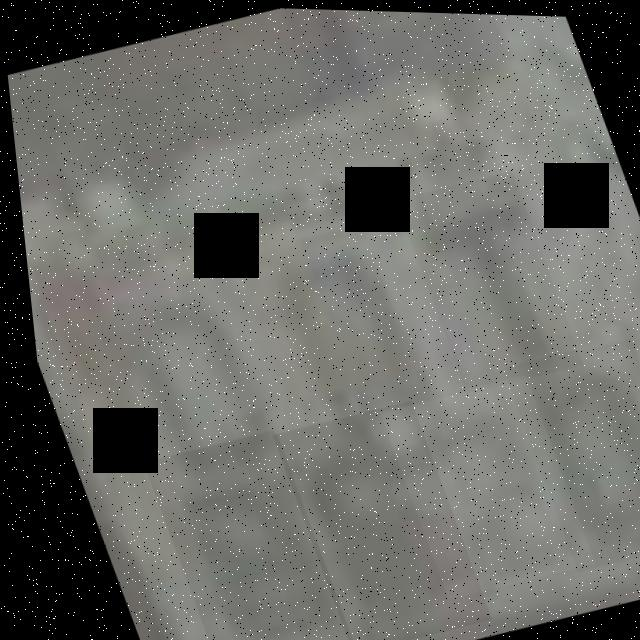0: (492, 331, 640, 571)
5: (368, 369, 586, 600)
6: (261, 394, 481, 640), (131, 425, 342, 640)
T: (388, 165, 579, 394)
